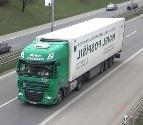Car: (106, 4, 117, 11)
Truck: (16, 15, 128, 111)
